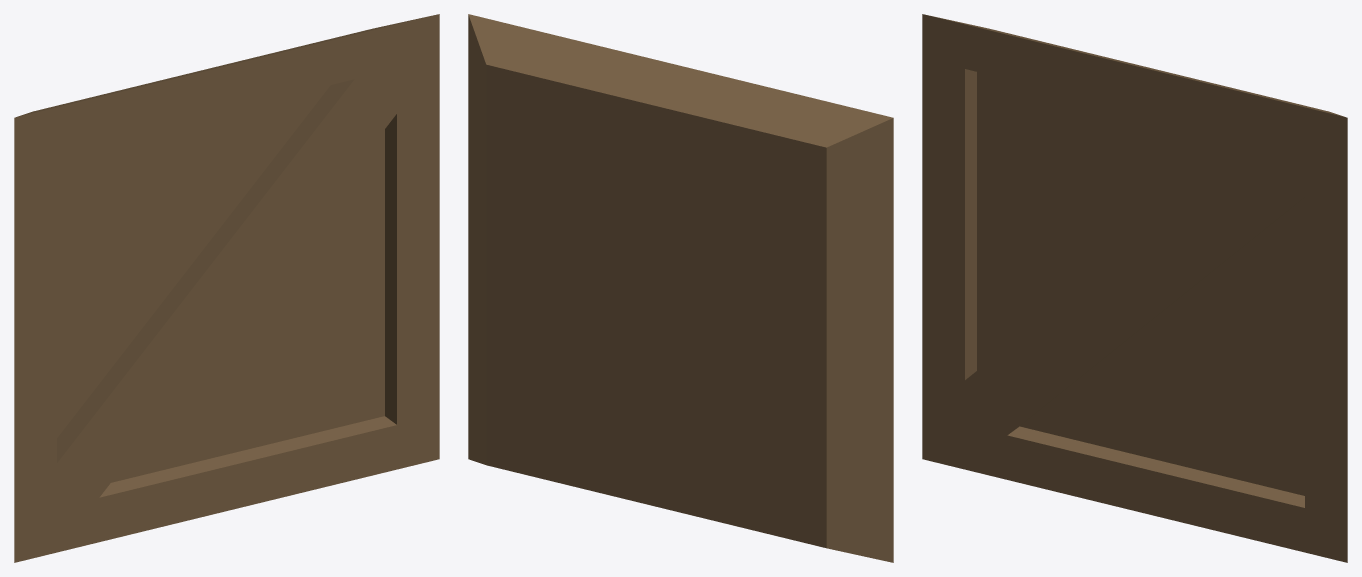
File: crate_face01_broken.fbx
3 renders of one model, left to right at view 1: azimuth 30°, elevation 25°; view 2: azimuth 150°, elevation 25°; view 3: azimuth 330°, elevation 25°, orthographic.
Visible parts, largest first — view 1: crateFace018, crateFace017, crateFace07, crateFace012, crateFace016, crateFace015, crateFace011, crateFace014, crateFace08, crateFace013, crateFace010, crateFace09; view 2: crateFace016, crateFace017, crateFace018, crateFace07, crateFace014, crateFace012, crateFace011, crateFace09, crateFace010, crateFace015, crateFace08; view 3: crateFace018, crateFace012, crateFace017, crateFace07, crateFace016, crateFace015, crateFace011, crateFace014, crateFace08, crateFace013, crateFace010, crateFace09.
Boxes of the visible parts, left/top/right/bottom form: crateFace018: left=236, top=259, right=439, bottom=505; crateFace017: left=14, top=262, right=226, bottom=562; crateFace07: left=186, top=28, right=400, bottom=288; crateFace012: left=14, top=289, right=248, bottom=562; crateFace016: left=26, top=72, right=198, bottom=295; crateFace015: left=227, top=61, right=439, bottom=305; crateFace011: left=14, top=71, right=205, bottom=318; crateFace014: left=260, top=122, right=390, bottom=290; crateFace08: left=392, top=14, right=439, bottom=69; crateFace013: left=392, top=409, right=439, bottom=470; crateFace010: left=14, top=107, right=56, bottom=161; crateFace09: left=331, top=21, right=410, bottom=63; crateFace016: left=675, top=81, right=876, bottom=325; crateFace017: left=656, top=289, right=893, bottom=562; crateFace018: left=468, top=260, right=634, bottom=501; crateFace07: left=516, top=28, right=701, bottom=298; crateFace014: left=472, top=71, right=662, bottom=323; crateFace012: left=635, top=306, right=892, bottom=562; crateFace011: left=696, top=71, right=893, bottom=319; crateFace09: left=473, top=25, right=533, bottom=108; crateFace010: left=850, top=107, right=893, bottom=161; crateFace015: left=468, top=69, right=472, bottom=265; crateFace08: left=468, top=14, right=515, bottom=70; crateFace018: left=1156, top=307, right=1347, bottom=551; crateFace012: left=922, top=289, right=1168, bottom=515; crateFace017: left=922, top=215, right=1134, bottom=458; crateFace07: left=1113, top=61, right=1308, bottom=288; crateFace016: left=961, top=22, right=1138, bottom=251; crateFace015: left=1135, top=149, right=1347, bottom=363; crateFace011: left=922, top=24, right=1116, bottom=225; crateFace014: left=1166, top=197, right=1304, bottom=339; crateFace08: left=1300, top=106, right=1347, bottom=172; crateFace013: left=1300, top=513, right=1347, bottom=562; crateFace010: left=922, top=14, right=965, bottom=57; crateFace09: left=1283, top=100, right=1336, bottom=151.
Size of the model in its own units: 40 by 40 by 4.
